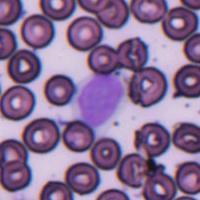L: (76, 72, 126, 128)
